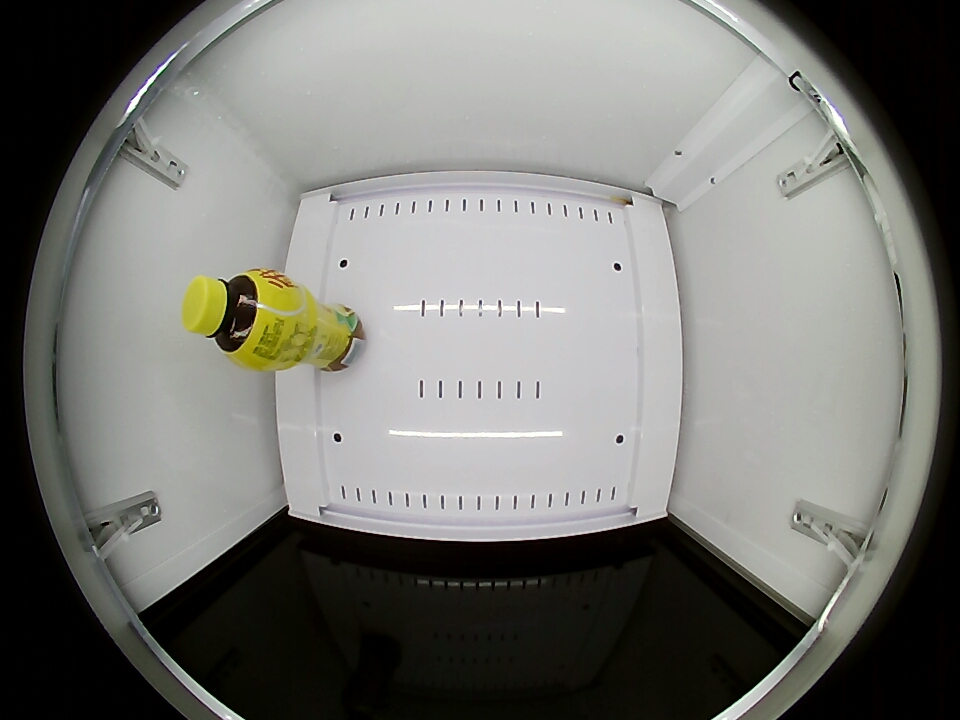weitaningmeng-bottle: (183, 269, 285, 366)
